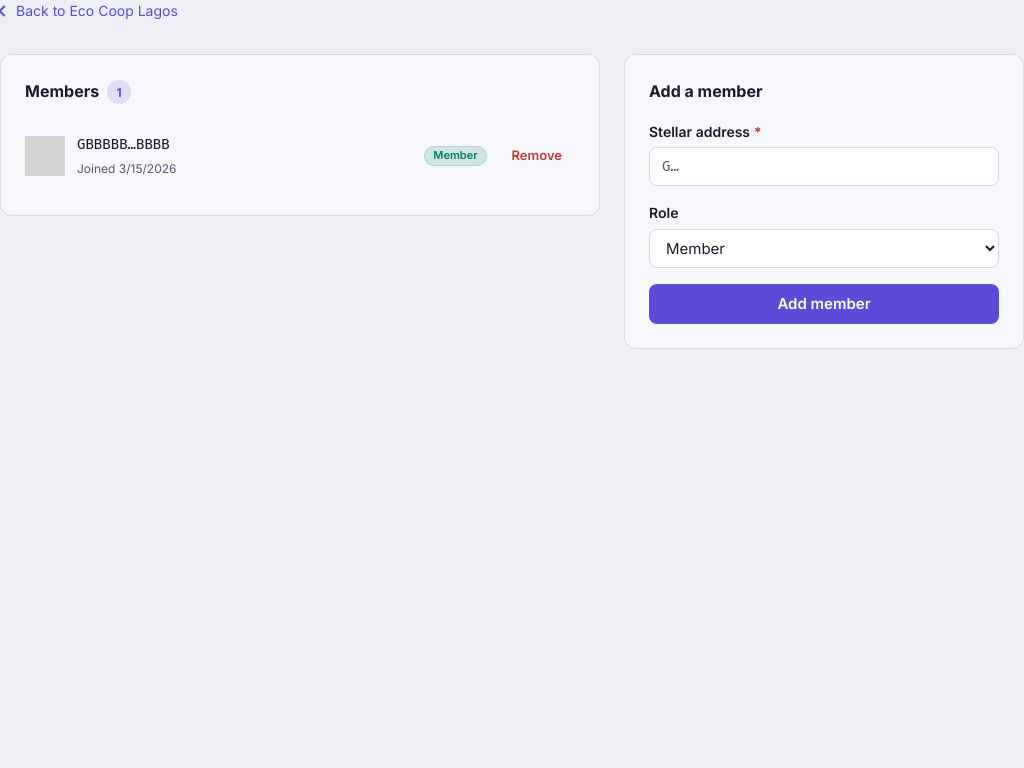
Test: MembersPage › remove member flow › opens a confirm dialog when the Remove button is clicked
The width and height of the screenshot is (1024, 768).
Click the button "Remove".
click(537, 156)  # box [498, 140, 575, 172]
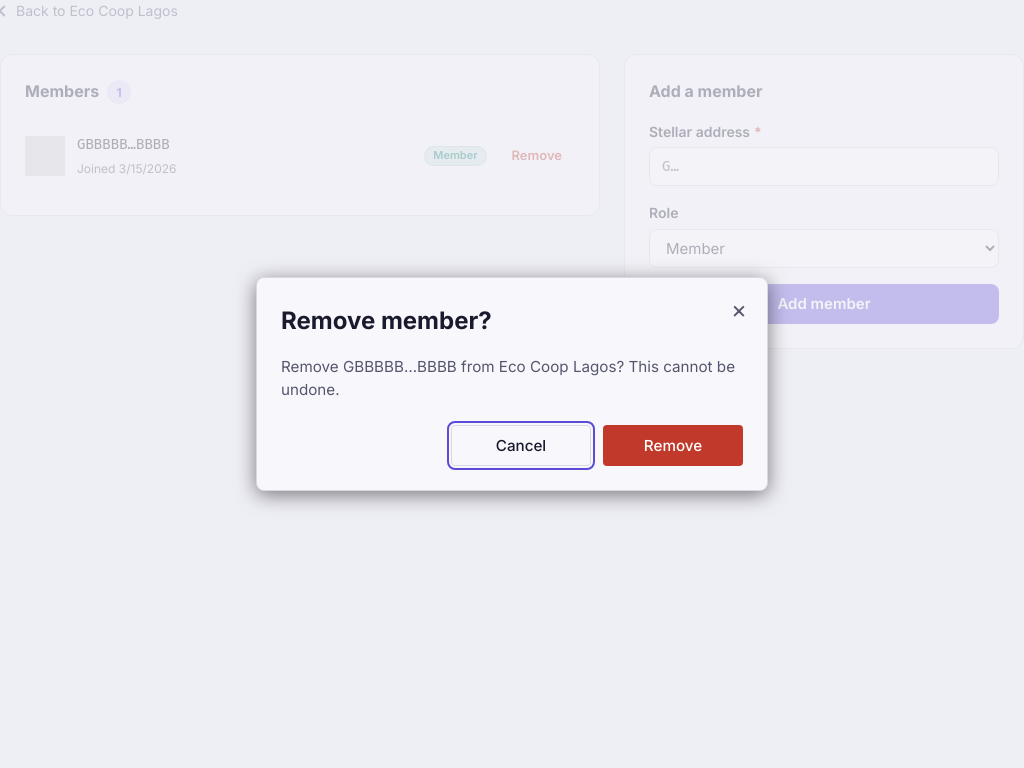
expect the heading "Remove member?" is shown: met, box [281, 306, 492, 334]
